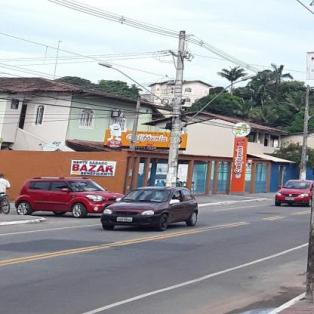Poste: (293, 0, 314, 303)
